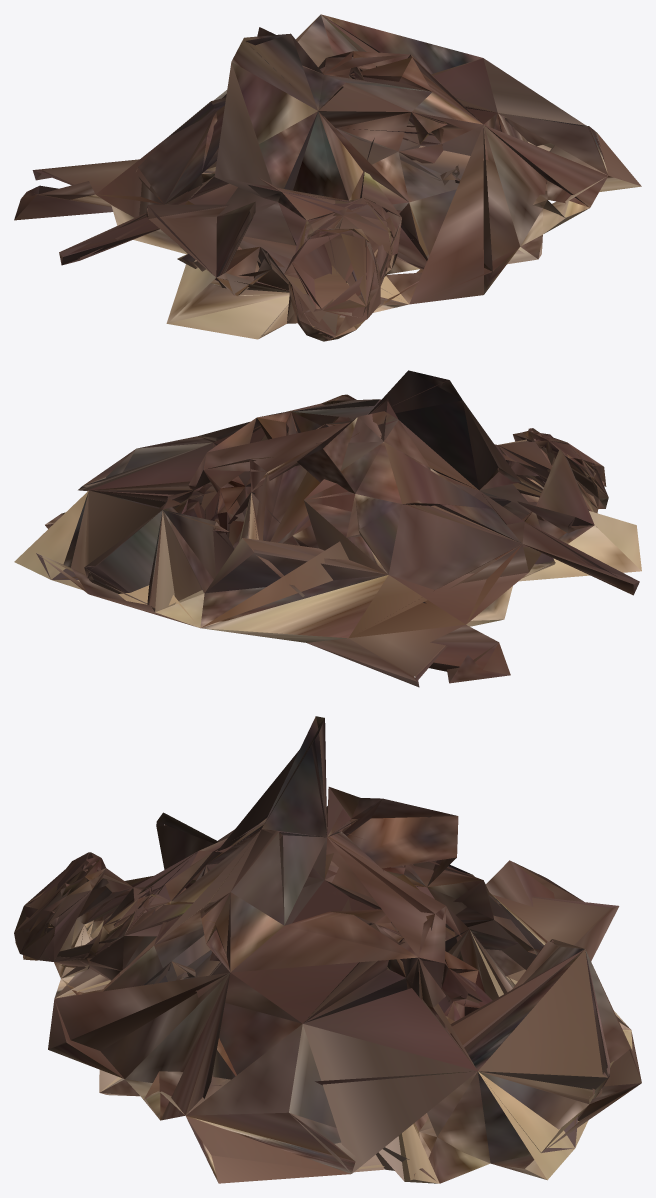
The model's file is scrap_heap_lod.glb.
3 views of the same model, one above another, from view 1: azimuth 30°, elevation 25°; view 2: azimuth 150°, elevation 25°; view 3: azimuth 270°, elevation 25° (orthographic). The views are drawn at different scales.
Parts seen in each view (by area): view 1: mesh_node; view 2: mesh_node; view 3: mesh_node.
Boxes of the visible parts, box(x1,y1,x2,y2) form: mesh_node: box(14, 14, 641, 341); mesh_node: box(14, 370, 641, 687); mesh_node: box(14, 716, 641, 1183).
Bounding box in the file's own units: 1.77 × 0.6334 × 1.4.
1 material, 1 textured.
